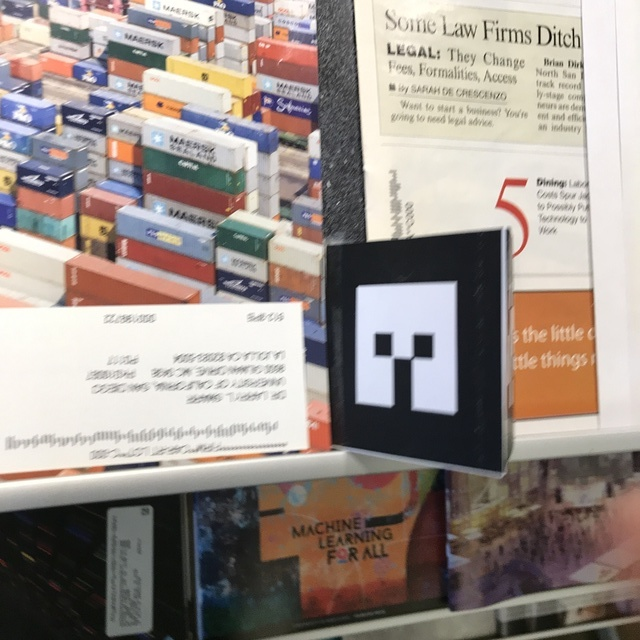ARTag: (325, 226, 514, 478)
